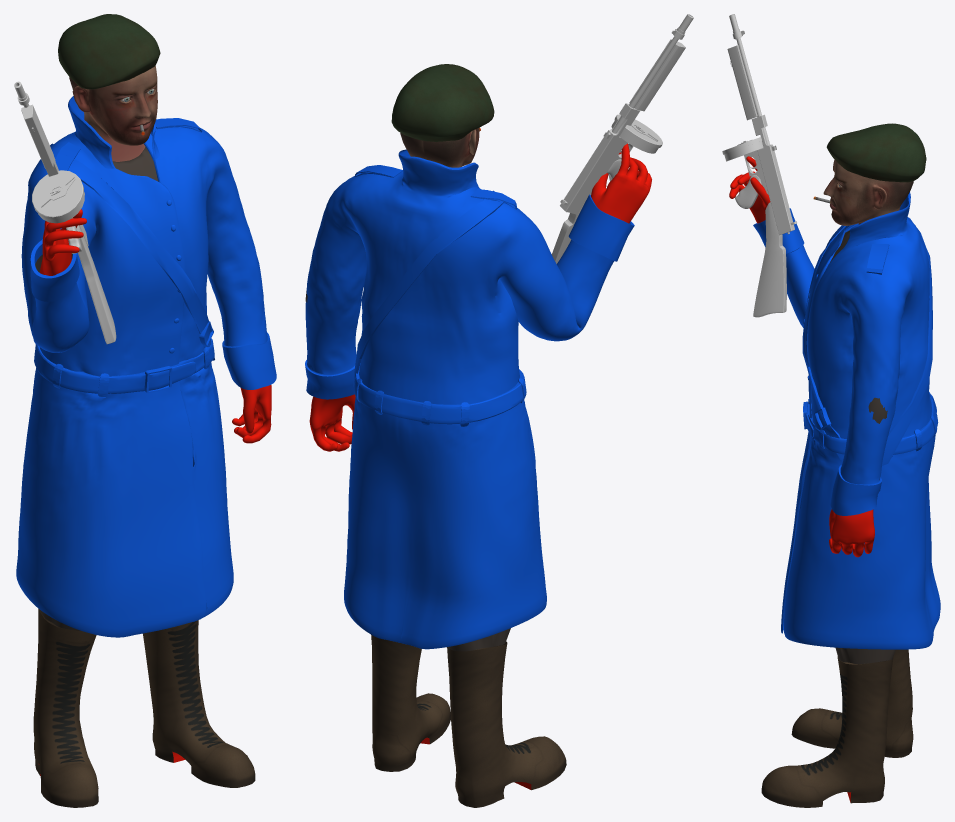
Rendered from WW1_Soldier.fbx.
The picture shows the model from 3 angles, left to right: view 1: azimuth 30°, elevation 25°; view 2: azimuth 150°, elevation 25°; view 3: azimuth 270°, elevation 25°; orthographic projection. The views are drawn at different scales.
Visible parts, largest first — view 1: Coat_LP_Cube.031_Clothing_Main.001, Coat_LP_Cube.031_Clothing_Main.007, Coat_LP_Cube.031_Clothing_Main.005, Cube.004, Coat_LP_Cube.031_Clothing_Main, Coat_LP_Cube.031_Clothing_Main.002, Coat_LP_Cube.031_Clothing_Main.006; view 2: Coat_LP_Cube.031_Clothing_Main.001, Coat_LP_Cube.031_Clothing_Main.007, Coat_LP_Cube.031_Clothing_Main.005, Cube.004, Coat_LP_Cube.031_Clothing_Main.002, Coat_LP_Cube.031_Clothing_Main; view 3: Coat_LP_Cube.031_Clothing_Main.001, Coat_LP_Cube.031_Clothing_Main.007, Cube.004, Coat_LP_Cube.031_Clothing_Main.005, Coat_LP_Cube.031_Clothing_Main, Coat_LP_Cube.031_Clothing_Main.002, Coat_LP_Cube.031_Clothing_Main.008, Coat_LP_Cube.031_Clothing_Main.006.
Part boxes in pixels (x1=…): Coat_LP_Cube.031_Clothing_Main.001: x1=16, y1=96, x2=276, y2=637; Coat_LP_Cube.031_Clothing_Main.007: x1=33, y1=608, x2=255, y2=807; Coat_LP_Cube.031_Clothing_Main.005: x1=58, y1=14, x2=160, y2=89; Cube.004: x1=14, y1=81, x2=116, y2=344; Coat_LP_Cube.031_Clothing_Main: x1=69, y1=66, x2=157, y2=161; Coat_LP_Cube.031_Clothing_Main.002: x1=39, y1=209, x2=271, y2=775; Coat_LP_Cube.031_Clothing_Main.006: x1=35, y1=147, x2=158, y2=272; Coat_LP_Cube.031_Clothing_Main.001: x1=305, y1=149, x2=634, y2=649; Coat_LP_Cube.031_Clothing_Main.007: x1=371, y1=634, x2=566, y2=807; Coat_LP_Cube.031_Clothing_Main.005: x1=391, y1=64, x2=494, y2=141; Cube.004: x1=552, y1=14, x2=693, y2=263; Coat_LP_Cube.031_Clothing_Main.002: x1=309, y1=143, x2=651, y2=789; Coat_LP_Cube.031_Clothing_Main: x1=400, y1=127, x2=479, y2=167; Coat_LP_Cube.031_Clothing_Main.001: x1=753, y1=192, x2=940, y2=649; Coat_LP_Cube.031_Clothing_Main.007: x1=761, y1=649, x2=913, y2=807; Cube.004: x1=722, y1=14, x2=796, y2=317; Coat_LP_Cube.031_Clothing_Main.005: x1=826, y1=123, x2=926, y2=182; Coat_LP_Cube.031_Clothing_Main: x1=823, y1=159, x2=913, y2=225; Coat_LP_Cube.031_Clothing_Main.002: x1=729, y1=156, x2=874, y2=802; Coat_LP_Cube.031_Clothing_Main.008: x1=835, y1=647, x2=895, y2=664; Coat_LP_Cube.031_Clothing_Main.006: x1=830, y1=230, x2=887, y2=423.
Bounding box in the file's own units: 64.58 × 147 × 42.63.
